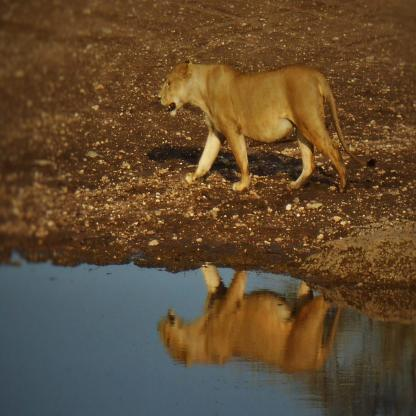lion: (154, 51, 194, 120)
